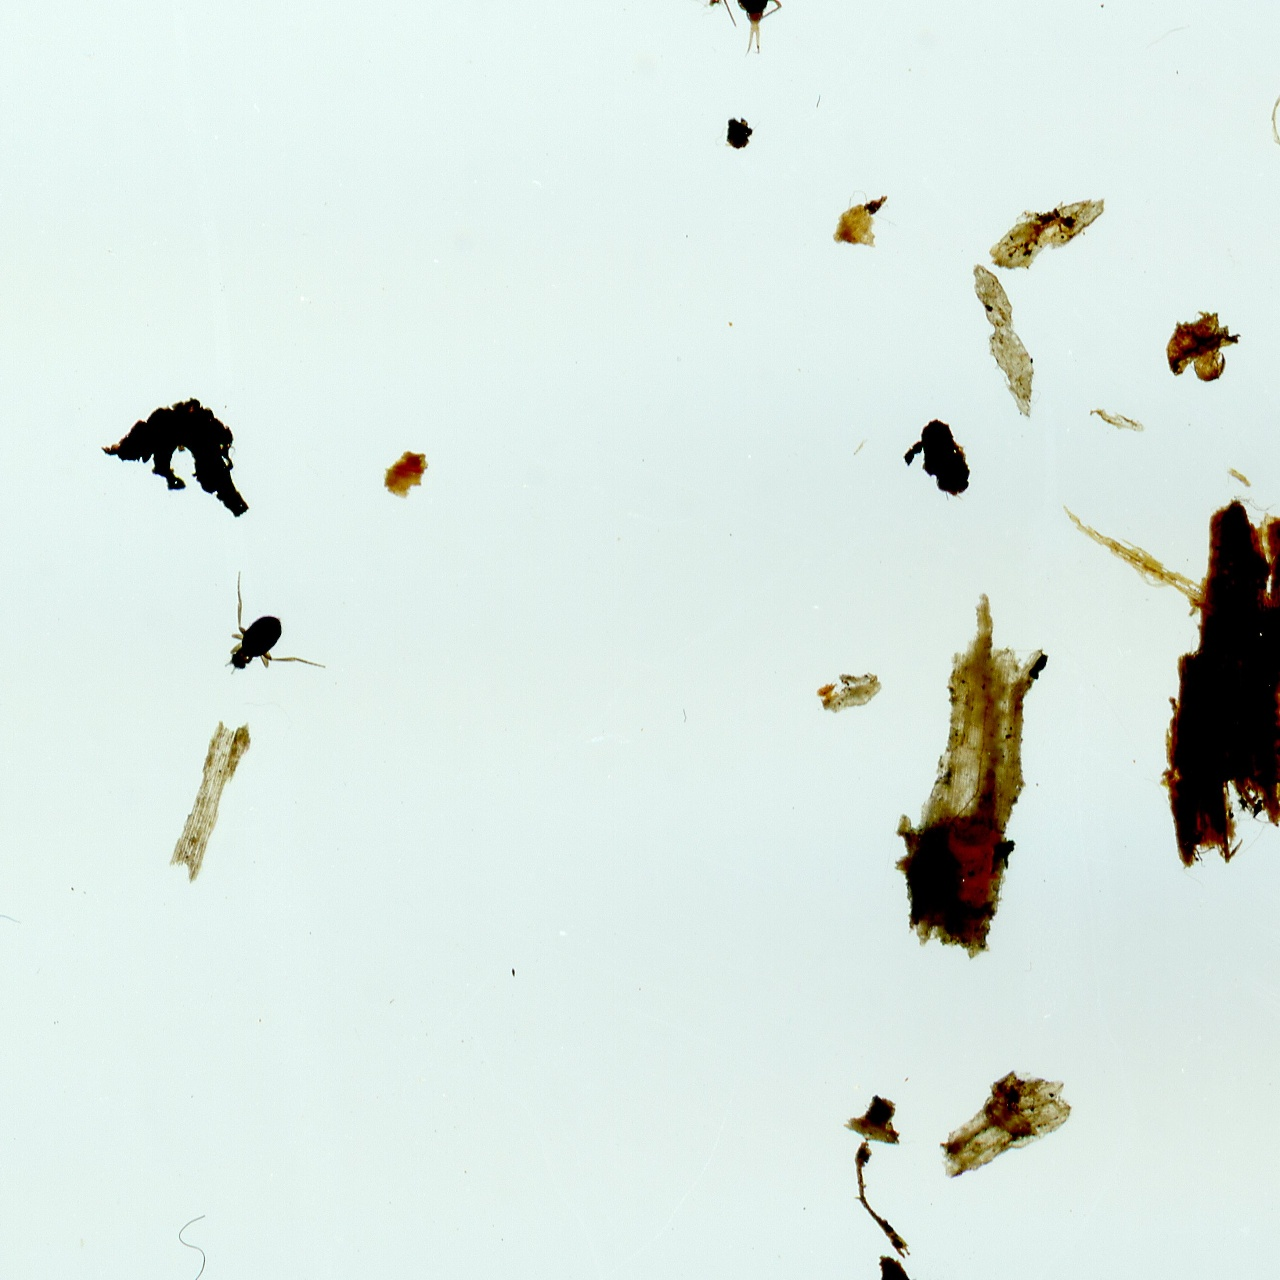arthropod: (216, 560, 332, 689), (702, 0, 798, 59)
